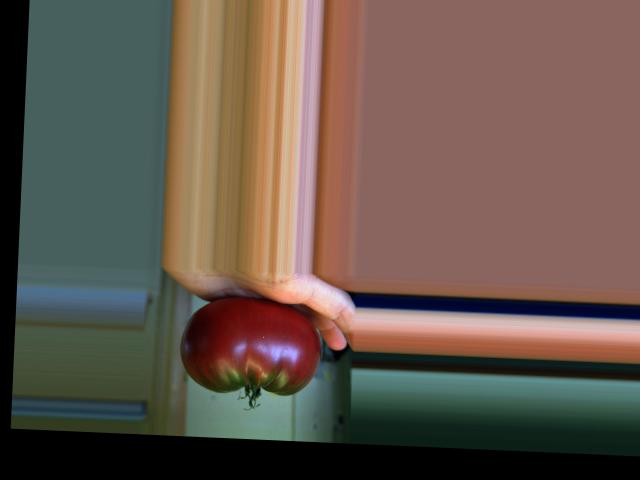tomato: (178, 294, 322, 397)
